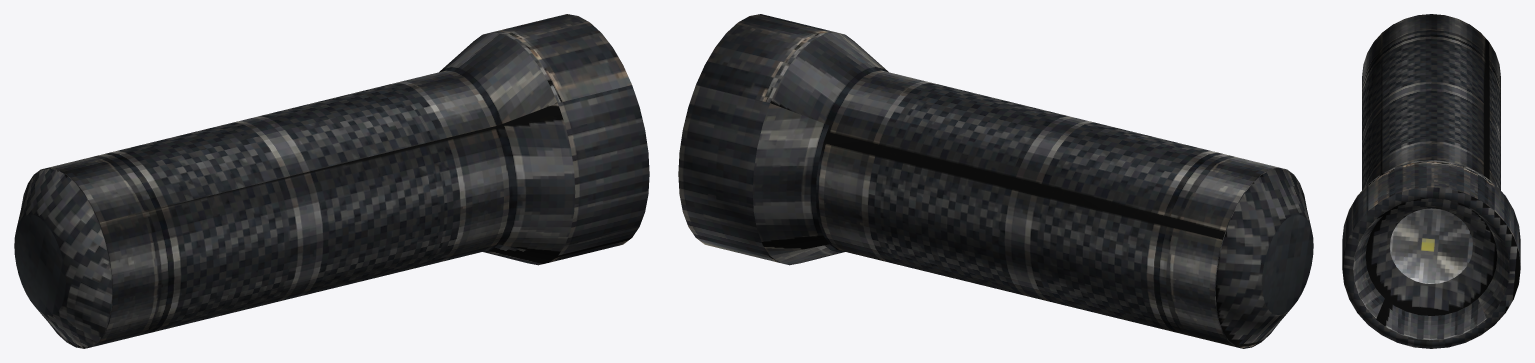
Rendered from Untitled_test animacji.glb.
3 views of the same model, side by side, from view 1: azimuth 30°, elevation 25°; view 2: azimuth 150°, elevation 25°; view 3: azimuth 270°, elevation 25° (orthographic). The views are drawn at different scales.
Parts seen in each view (by area): view 1: Cylinder, Cylinder.001; view 2: Cylinder, Cylinder.001; view 3: Cylinder.
Boxes of the visible parts, <box> form: Cylinder: <box>21,14,649,348</box>; Cylinder.001: <box>14,168,112,347</box>; Cylinder: <box>678,14,1306,348</box>; Cylinder.001: <box>1215,168,1313,347</box>; Cylinder: <box>1342,14,1520,348</box>.
Size of the model in its own units: 6.88 by 2.57 by 2.57.
Materials: 1 (1 with a texture image).
